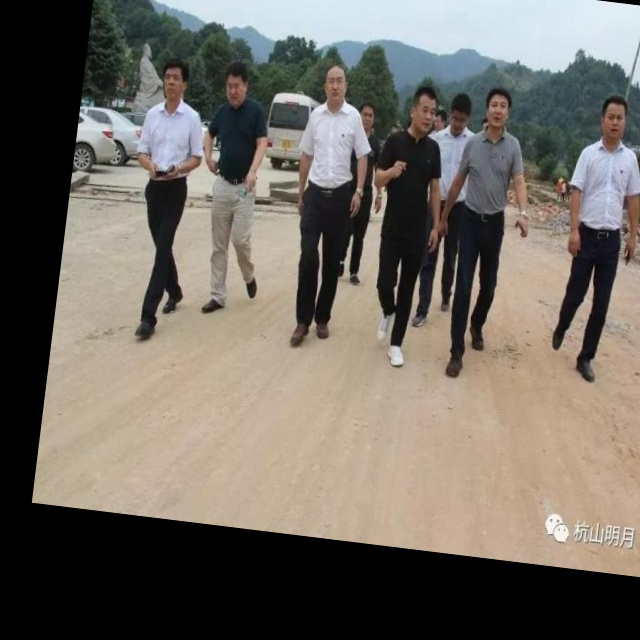Sin_Casco_Mascarrilla: (157, 55, 192, 105), (223, 59, 252, 108), (321, 62, 349, 107)
Sin_Chaleco: (570, 138, 638, 241), (456, 128, 522, 224)
